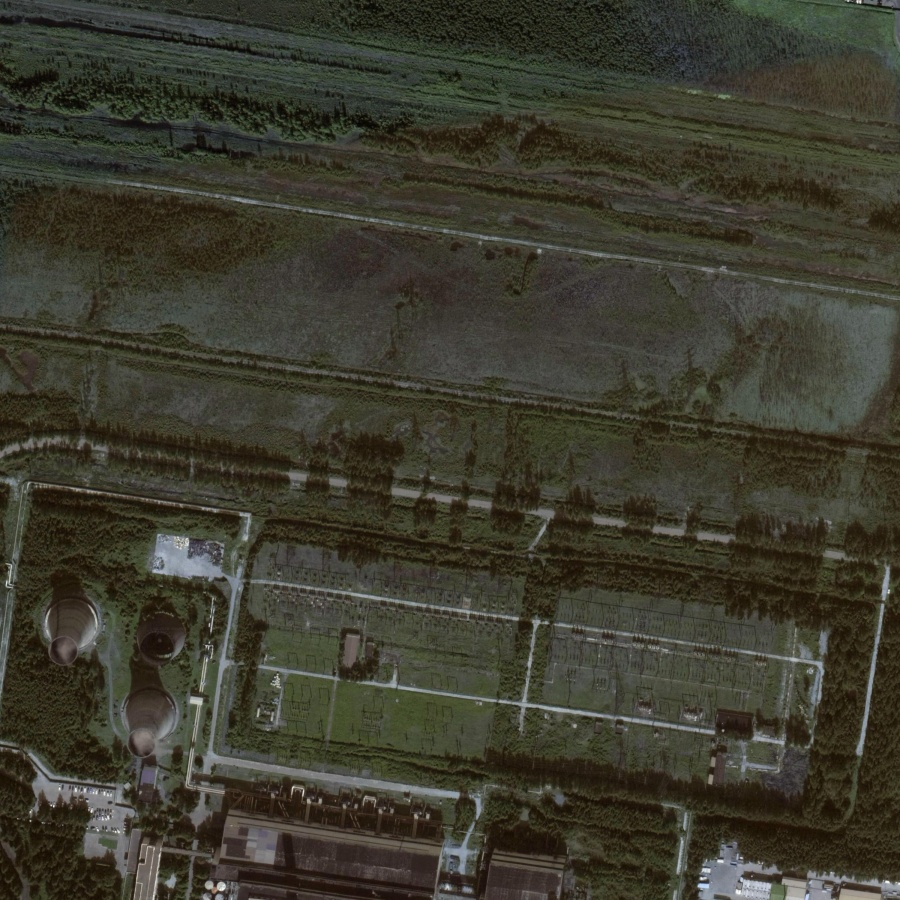PowerPlant: (17, 534, 216, 780)
